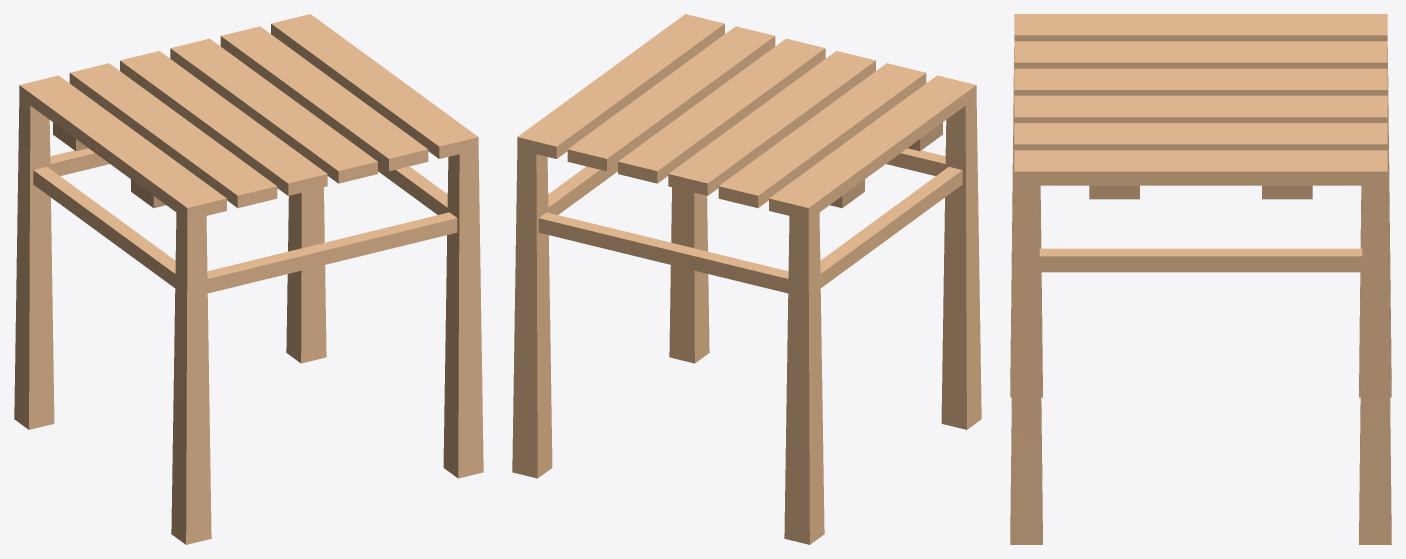
3 views of the same model, side by side, from view 1: azimuth 30°, elevation 25°; view 2: azimuth 150°, elevation 25°; view 3: azimuth 270°, elevation 25° (orthographic). The views are drawn at different scales.
Visible parts, largest first — view 1: structureBase; view 2: structureBase; view 3: structureBase.
Boxes of the visible parts, bbox=[...] form: structureBase: bbox=[14, 14, 483, 544]; structureBase: bbox=[512, 14, 981, 544]; structureBase: bbox=[1010, 14, 1391, 544].
Size of the model in its own units: 0.5 by 0.5375 by 0.5.
